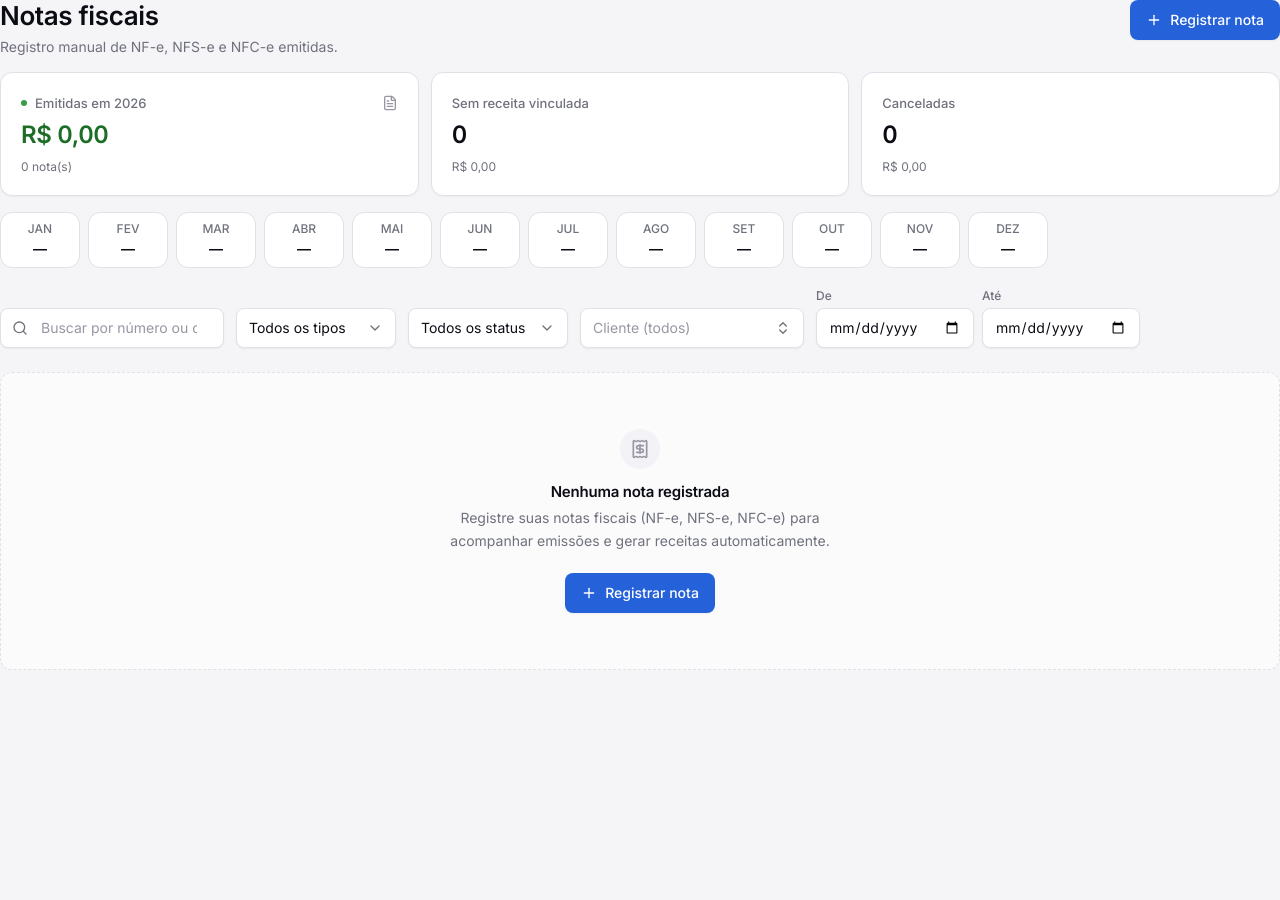
NotasListaPage › abre o diálogo de registrar nota
Click the 1st button "Registrar nota" at (1205, 20), box 1130,0 -> 1279,40
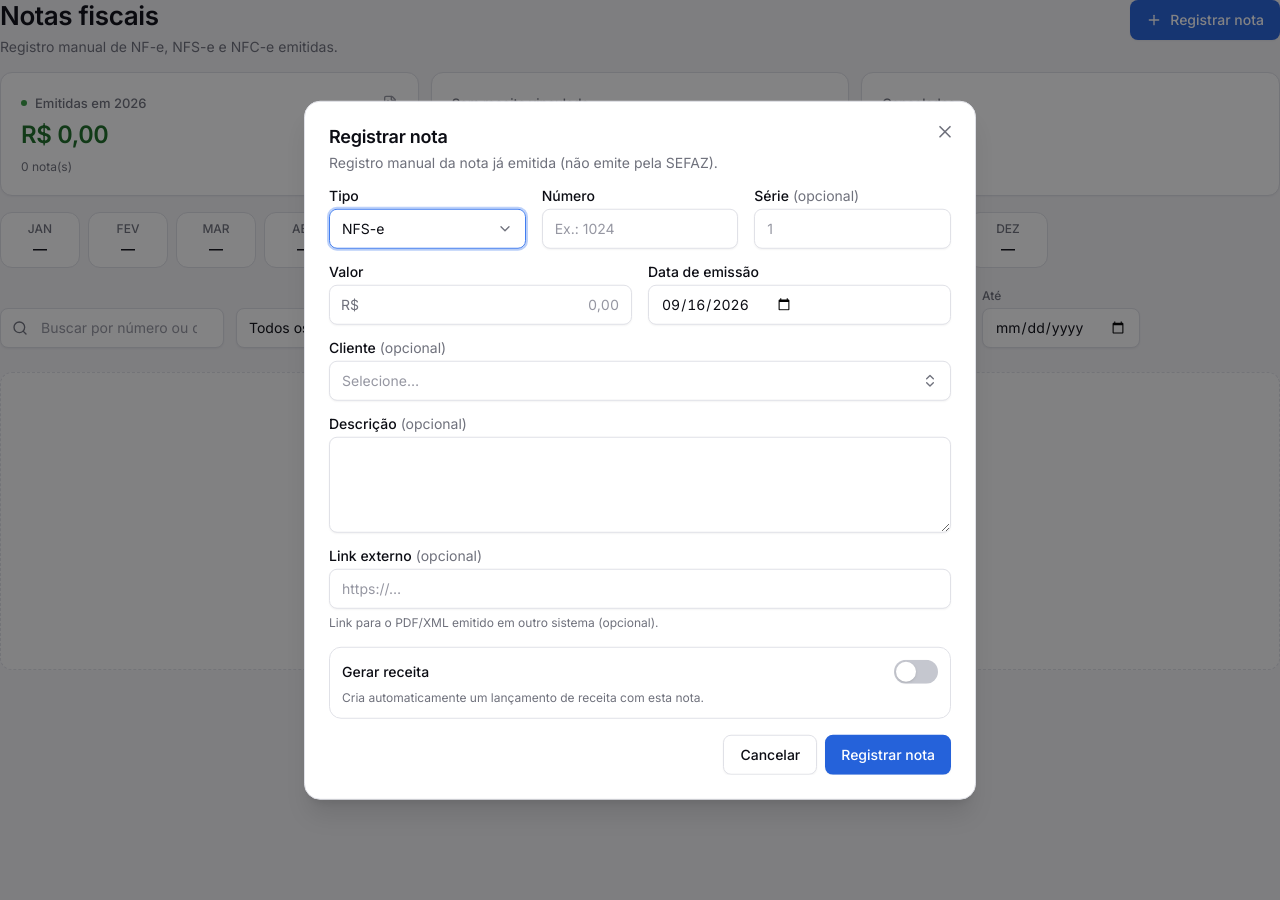
Result: the text "Registro manual da nota já emitida (não emite pela SEFAZ)." is shown at 329,153 -> 718,170
